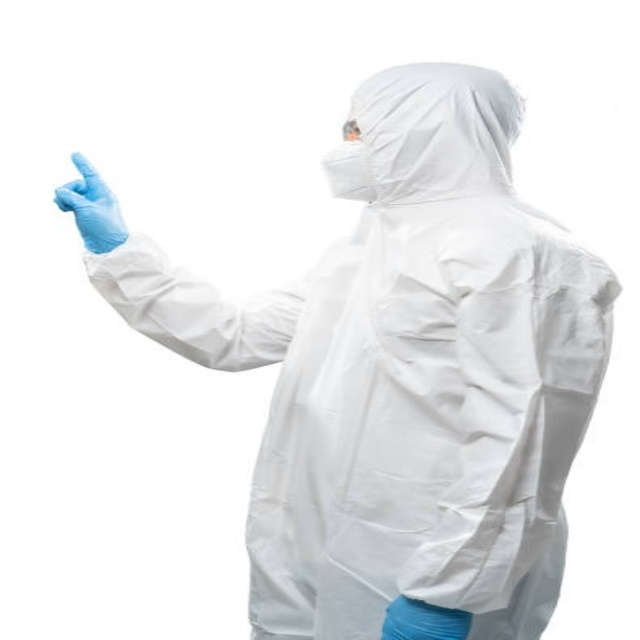Gafas: (343, 118, 361, 141)
Guantes: (54, 150, 131, 254), (379, 594, 472, 640)
Mascara: (320, 139, 379, 200)
